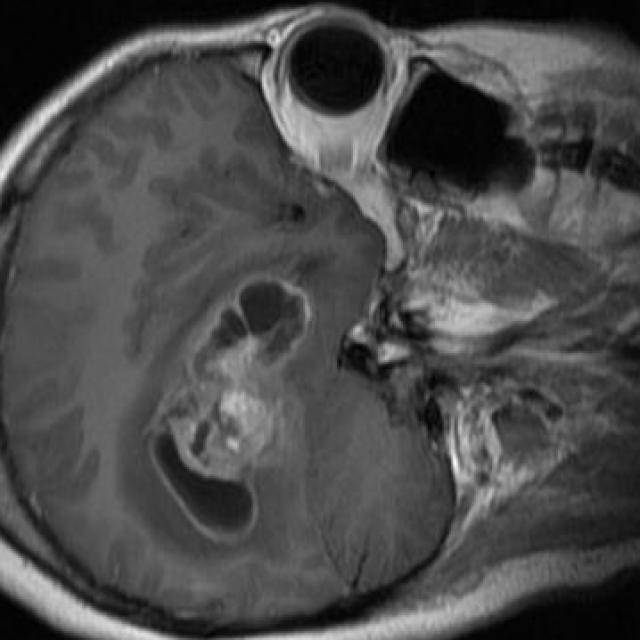glioma: (143, 273, 312, 547)
